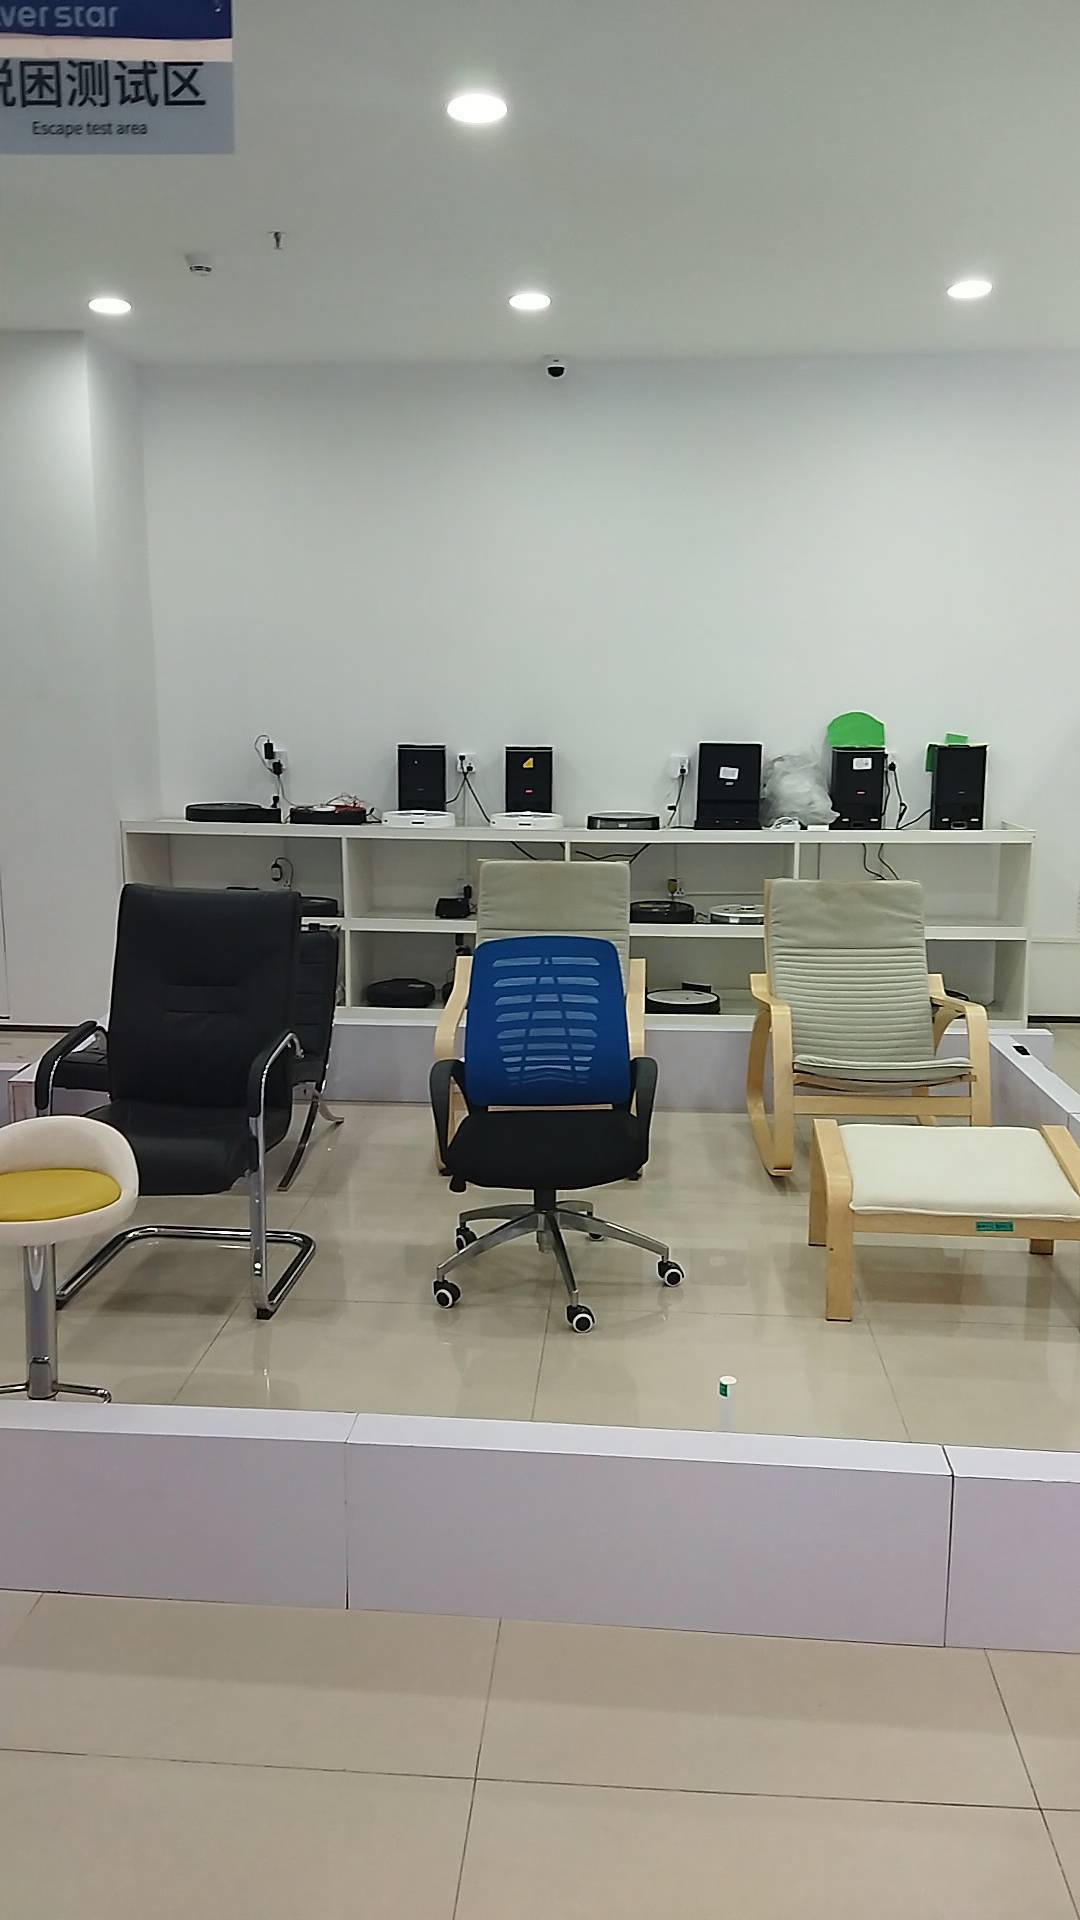dust collecting barrel: (691, 738, 767, 827), (825, 746, 895, 833), (931, 746, 990, 832), (396, 742, 450, 808), (504, 748, 554, 810)
recharge seat: (434, 895, 477, 922)
